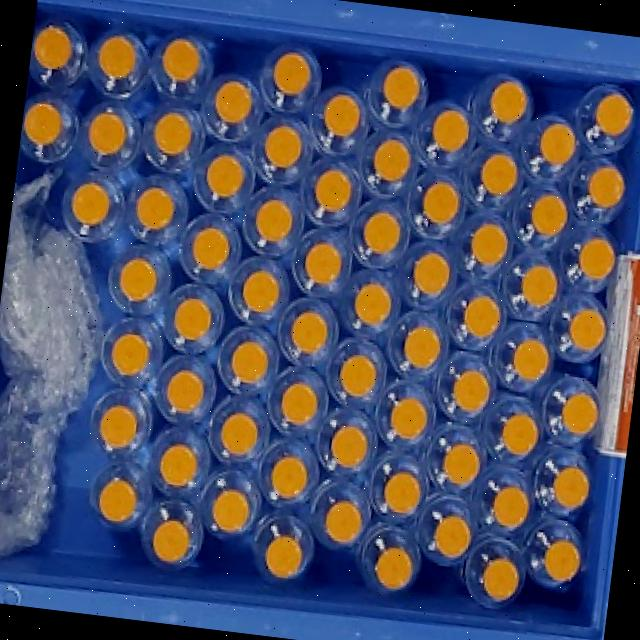vials: (33, 25, 73, 70), (263, 125, 303, 169), (161, 37, 200, 81), (97, 35, 136, 79), (23, 102, 62, 146), (71, 182, 110, 226), (205, 154, 244, 198), (110, 332, 149, 376), (389, 396, 428, 440), (98, 404, 137, 448), (158, 443, 197, 487), (98, 479, 137, 523), (211, 489, 250, 533), (119, 257, 157, 302), (313, 169, 352, 212), (173, 297, 212, 340), (323, 93, 361, 137), (373, 138, 411, 182), (154, 111, 192, 155), (135, 186, 173, 230), (433, 514, 471, 558), (324, 500, 362, 544), (482, 557, 519, 602), (214, 80, 252, 123), (587, 165, 625, 208), (88, 111, 126, 154), (363, 211, 401, 254), (191, 227, 229, 270), (339, 354, 377, 397), (166, 370, 204, 413), (374, 546, 412, 589), (265, 535, 303, 578), (383, 65, 420, 109), (471, 222, 508, 266), (354, 282, 391, 326), (291, 310, 328, 354), (221, 412, 258, 456), (271, 455, 308, 499), (152, 519, 189, 563), (491, 79, 527, 124), (412, 252, 450, 294), (304, 242, 342, 284), (241, 270, 279, 312), (403, 326, 441, 368), (432, 109, 469, 152), (273, 52, 310, 95), (423, 181, 460, 224), (463, 295, 500, 338), (513, 338, 550, 381), (452, 369, 489, 412), (280, 382, 317, 425), (443, 443, 480, 486), (330, 425, 367, 468), (383, 472, 420, 515), (540, 122, 576, 166), (595, 94, 632, 136), (480, 153, 517, 195), (530, 194, 567, 236), (255, 200, 292, 242), (569, 308, 606, 350), (561, 393, 598, 435), (231, 341, 268, 383), (492, 486, 529, 528), (521, 264, 557, 307), (543, 541, 580, 582), (578, 238, 614, 280), (553, 466, 589, 508), (502, 414, 538, 455)
